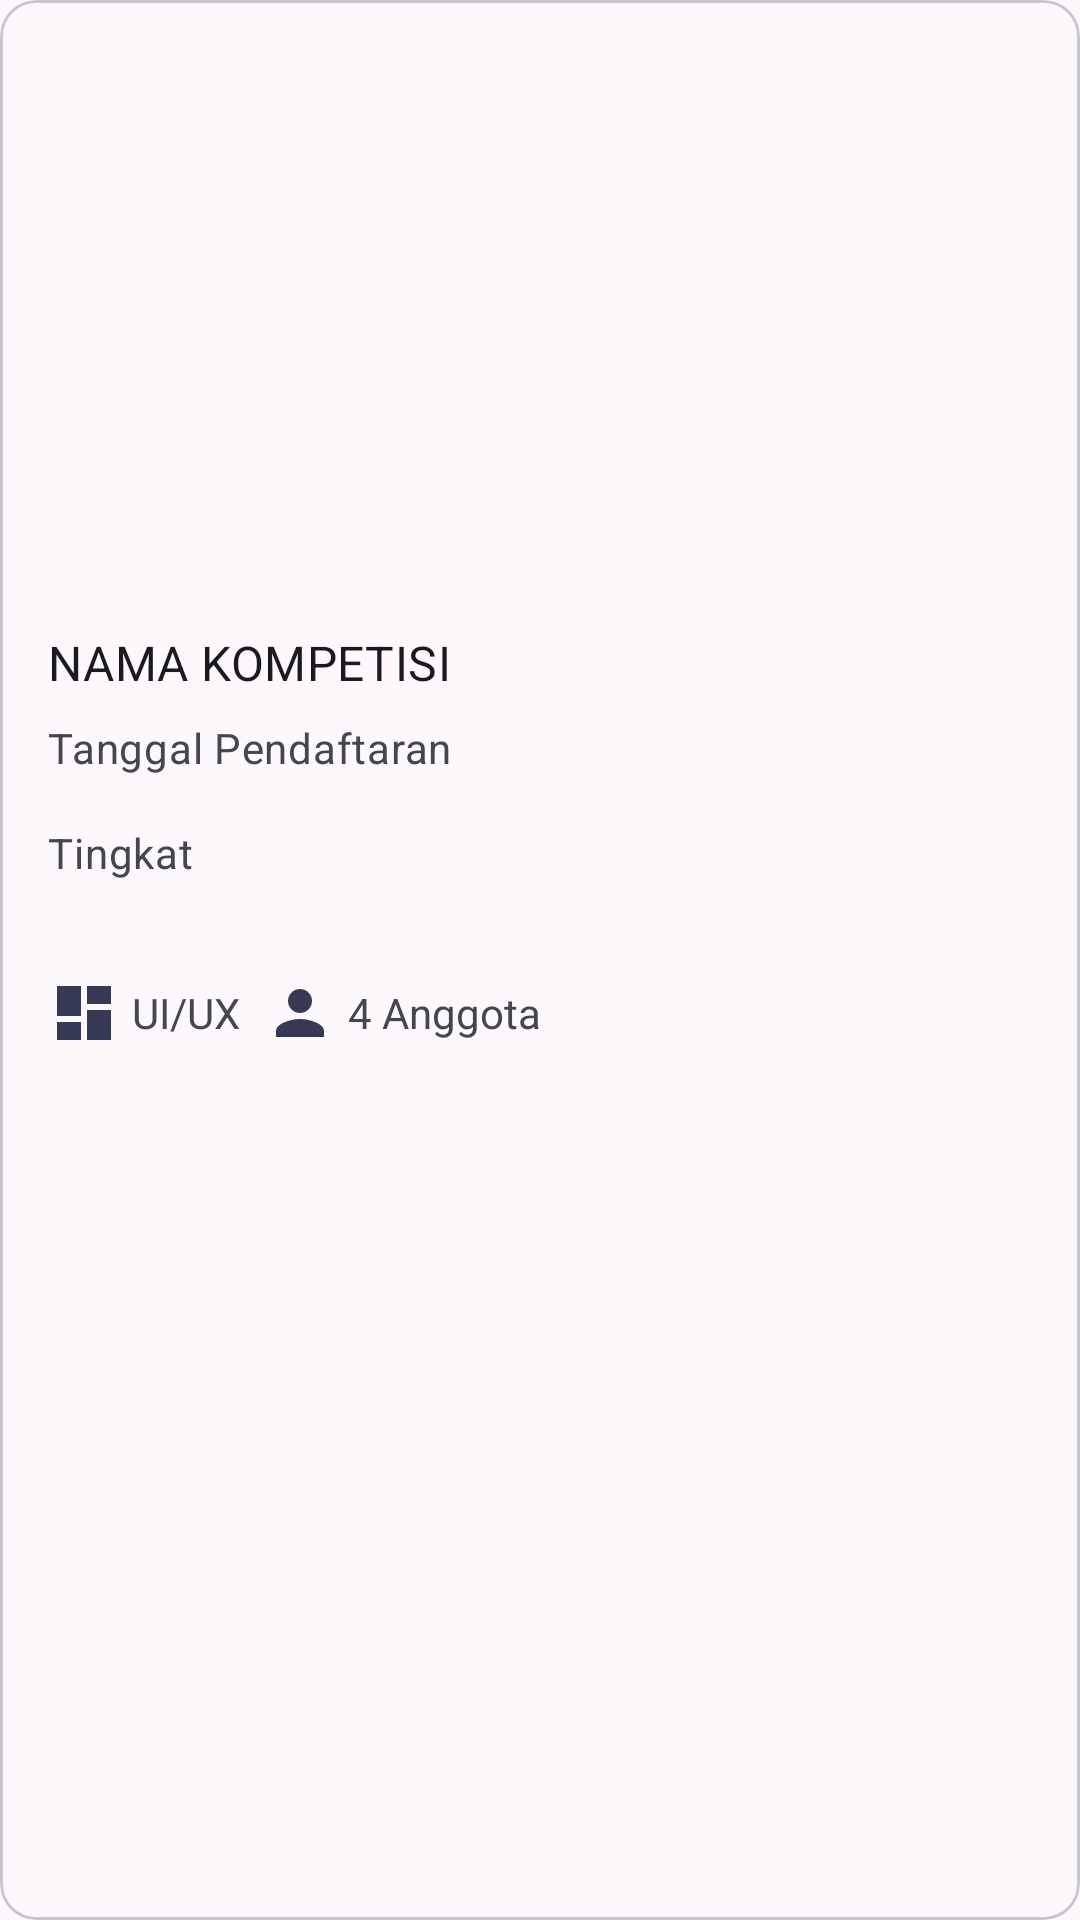

Where icons sit on this 1080 x 1920 app screen, as (x1, y1, x2, y2):
dashboard: (57, 986, 111, 1040)
person: (276, 989, 324, 1037)
